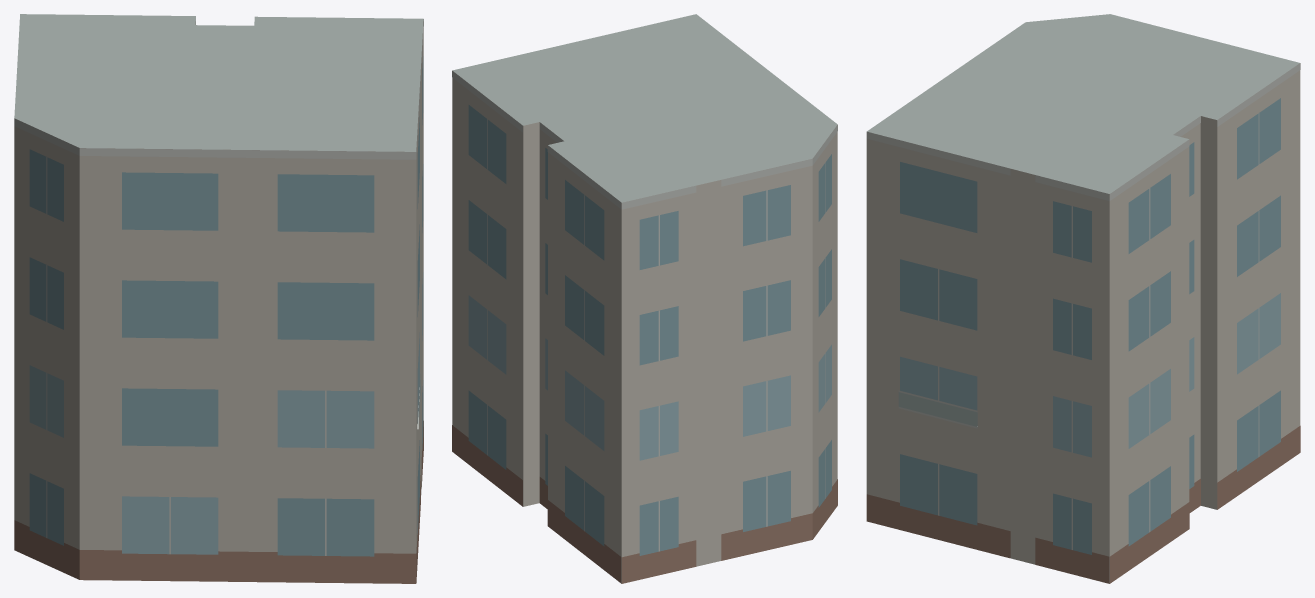
The model's file is survey-upis-32668925.glb.
3 views of the same model, side by side, from view 1: azimuth 30°, elevation 25°; view 2: azimuth 150°, elevation 25°; view 3: azimuth 270°, elevation 25° (orthographic). The views are drawn at different scales.
Parts seen in each view (by area): view 1: survey-upis-32668925.tmp; view 2: survey-upis-32668925.tmp; view 3: survey-upis-32668925.tmp.
Boxes of the visible parts, x1=… form: survey-upis-32668925.tmp: x1=14, y1=14, x2=423, y2=583; survey-upis-32668925.tmp: x1=452, y1=14, x2=837, y2=583; survey-upis-32668925.tmp: x1=866, y1=14, x2=1300, y2=583.
Size of the model in its own units: 13.29 by 13.4 by 13.52.
